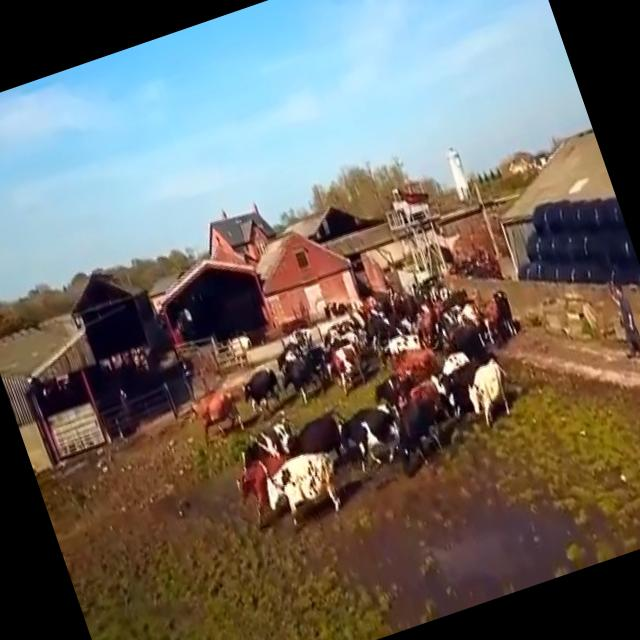cow: (163, 254, 270, 343), (255, 448, 352, 538), (336, 391, 409, 469), (455, 356, 528, 429), (386, 400, 458, 473), (282, 402, 352, 472), (180, 377, 244, 445), (228, 452, 296, 516), (223, 418, 299, 474), (235, 366, 285, 416), (390, 340, 440, 390), (320, 338, 365, 390), (282, 348, 330, 394), (488, 284, 521, 338), (362, 302, 393, 335), (274, 486, 281, 492)
